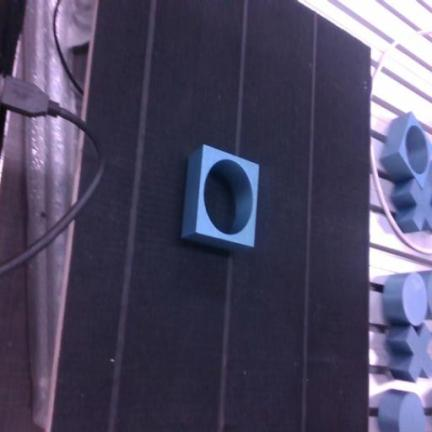square: (181, 144, 258, 249)
